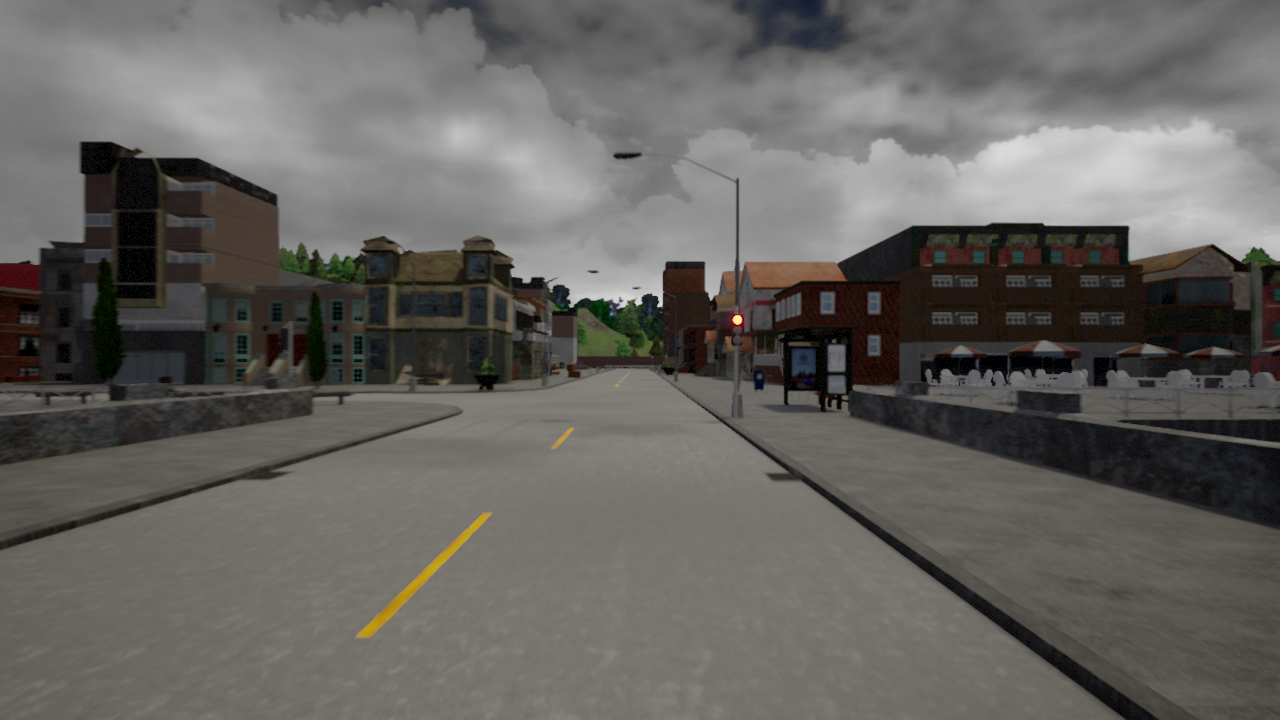red: (731, 313, 743, 346)
